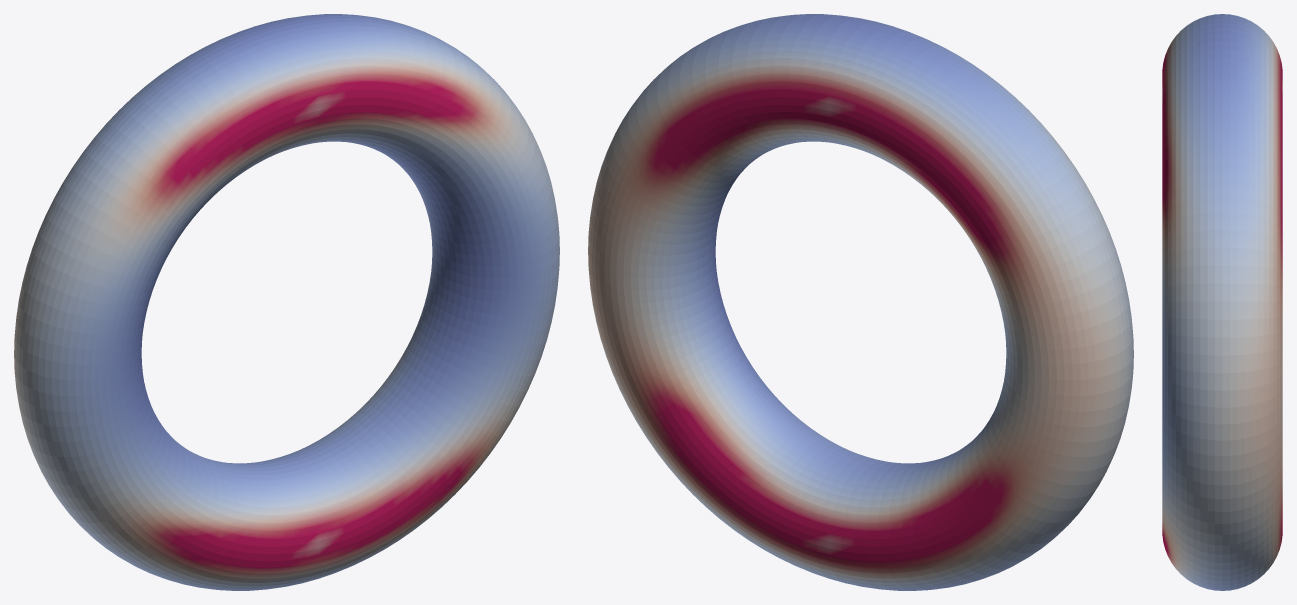
The picture shows the model from 3 angles, left to right: view 1: azimuth 30°, elevation 25°; view 2: azimuth 150°, elevation 25°; view 3: azimuth 270°, elevation 25°; orthographic projection. The views are drawn at different scales.
Visible parts, largest first — view 1: world; view 2: world; view 3: world.
Part boxes in pixels (<box>): world: <box>14,14,559,590</box>; world: <box>588,14,1133,590</box>; world: <box>1162,14,1282,590</box>.
Size of the model in its own units: 23.6 by 23.6 by 4.92.
